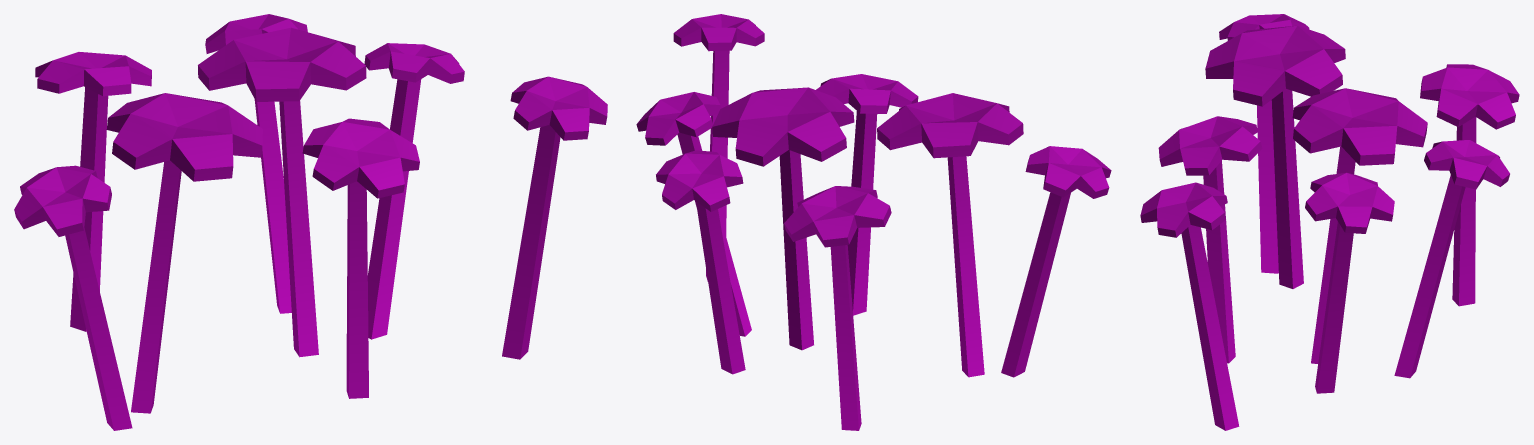
Rendered from SM_Env_Flowers_02.fbx.
The picture shows the model from 3 angles, left to right: view 1: azimuth 30°, elevation 25°; view 2: azimuth 150°, elevation 25°; view 3: azimuth 270°, elevation 25°; orthographic projection. The views are drawn at different scales.
Visible parts, largest first — view 1: SM_Env_Flowers_02; view 2: SM_Env_Flowers_02; view 3: SM_Env_Flowers_02.
Boxes of the visible parts, box(x1,y1,x2,y2) form: SM_Env_Flowers_02: box(14, 14, 607, 430); SM_Env_Flowers_02: box(636, 14, 1111, 430); SM_Env_Flowers_02: box(1140, 14, 1519, 430).
Size of the model in its own units: 97.86 by 51.27 by 69.11.
